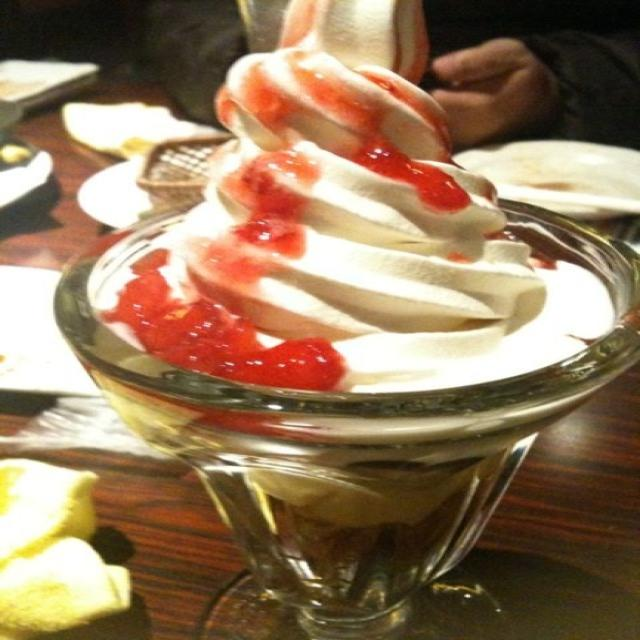蛋糕甜品: (30, 21, 625, 623)
